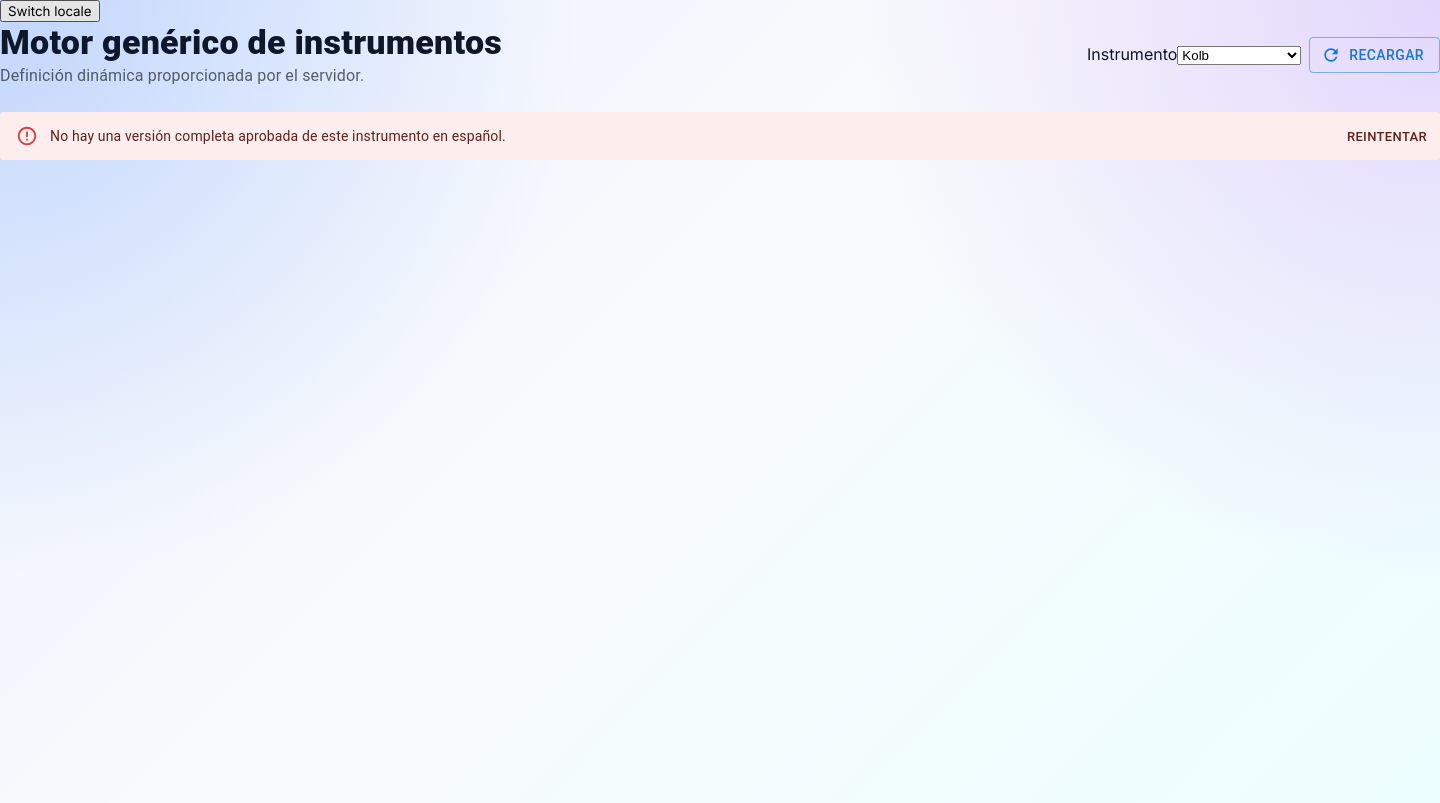
Scenario: blocks incomplete es content and recovers only after a successful retry
Expected: the message shows "No hay una versión completa aprobada", [50,128,506,144]
Expected: the text "Synthetic es" is not shown
Click the button "Reintentar".
click(1387, 137)  # box [1342,122,1432,153]
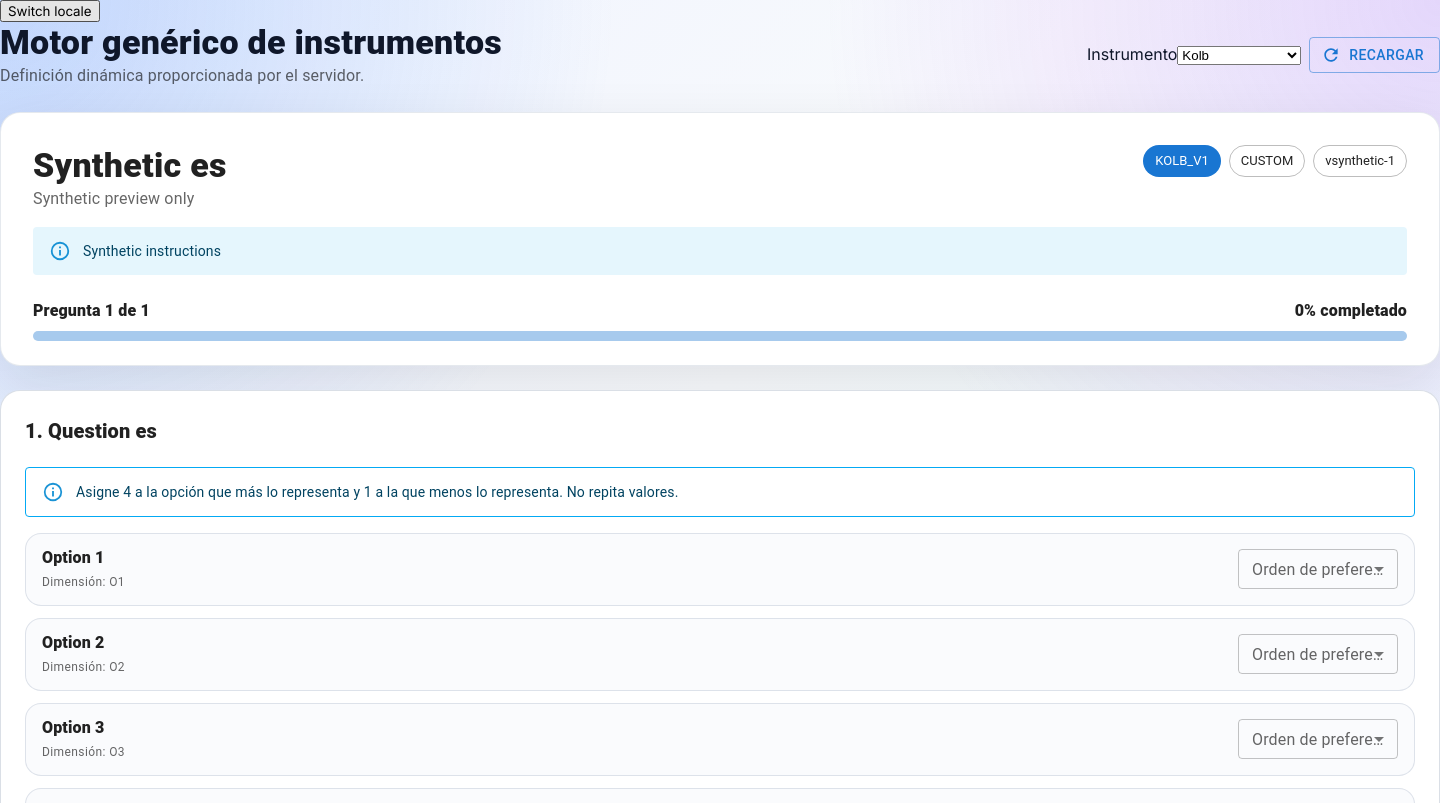
Expected: the heading "Synthetic es" is shown, [33,145,227,187]
